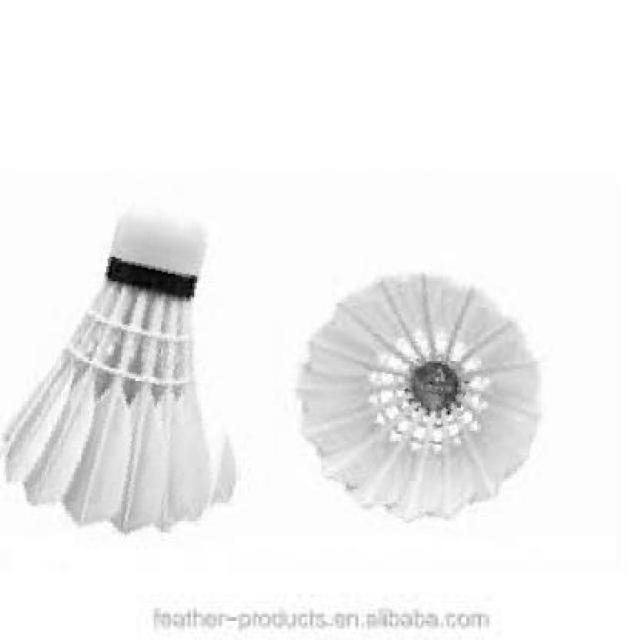Shuttlecock: (1, 188, 257, 546), (281, 260, 554, 537)
